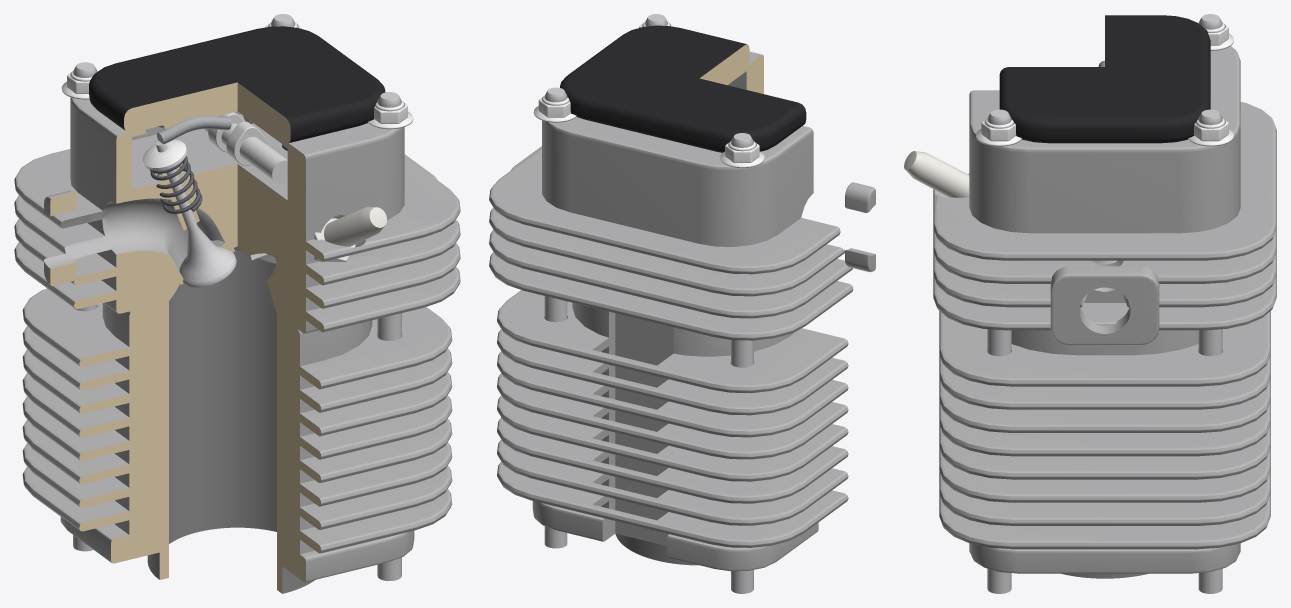
The picture shows the model from 3 angles, left to right: view 1: azimuth 30°, elevation 25°; view 2: azimuth 150°, elevation 25°; view 3: azimuth 270°, elevation 25°; orthographic projection. The views are drawn at different scales.
Visible parts, largest first — view 1: cylinder__barrel, cylinder__head, cylinder__liner, cylinder__rocker_cover, cylinder__valve_intake, cylinder__camshaft, cylinder__studs, cylinder__spark_plug, cylinder__port_flanges, cylinder__head_nuts, cylinder__valve_springs, cylinder__rockers (+1 smaller); view 2: cylinder__barrel, cylinder__head, cylinder__rocker_cover, cylinder__studs, cylinder__head_nuts, cylinder__port_flanges, cylinder__liner; view 3: cylinder__barrel, cylinder__head, cylinder__rocker_cover, cylinder__port_flanges, cylinder__studs, cylinder__head_nuts, cylinder__spark_plug.
Boxes of the visible parts, x1,y1,x2,y2 form: cylinder__barrel: (22,288,452,582); cylinder__head: (14,97,460,333); cylinder__liner: (147,251,314,593); cylinder__rocker_cover: (89,26,385,143); cylinder__valve_intake: (156,141,236,287); cylinder__camshaft: (203,112,287,184); cylinder__studs: (73,14,401,580); cylinder__spark_plug: (314,206,386,261); cylinder__port_flanges: (44,154,437,285); cylinder__head_nuts: (61,22,413,129); cylinder__valve_springs: (150,144,287,213); cylinder__rockers: (157,115,252,144); cylinder__barrel: (497,290,848,571); cylinder__head: (489,51,853,340); cylinder__rocker_cover: (560,25,806,152); cylinder__studs: (544,14,753,593); cylinder__head_nuts: (533,22,764,167); cylinder__port_flanges: (510,146,875,272); cylinder__liner: (615,533,698,565); cylinder__barrel: (939,311,1270,573); cylinder__head: (933,46,1276,330); cylinder__rocker_cover: (999,15,1210,143); cylinder__port_flanges: (1050,266,1159,344); cylinder__studs: (987,14,1222,593); cylinder__head_nuts: (976,22,1233,146); cylinder__spark_plug: (904,151,969,197).
Size of the model in its own units: 13.9 by 17.4 by 12.37.
